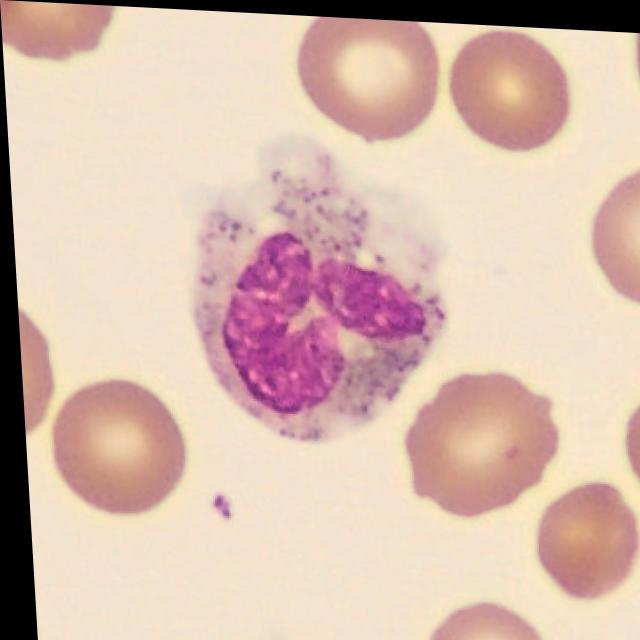Neutrofilo segmentado: (192, 145, 444, 440)
